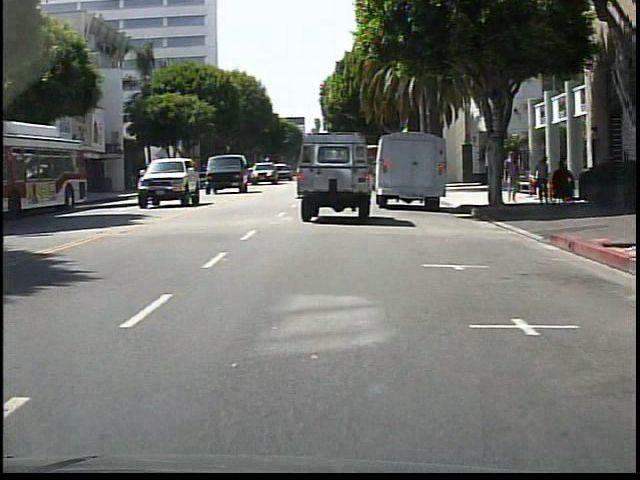person: (502, 150, 520, 204), (534, 157, 550, 203)
